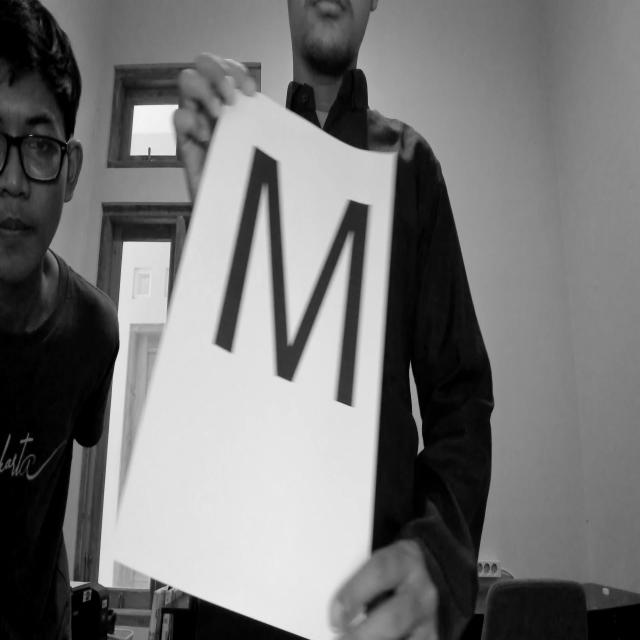m: (205, 141, 385, 422)
